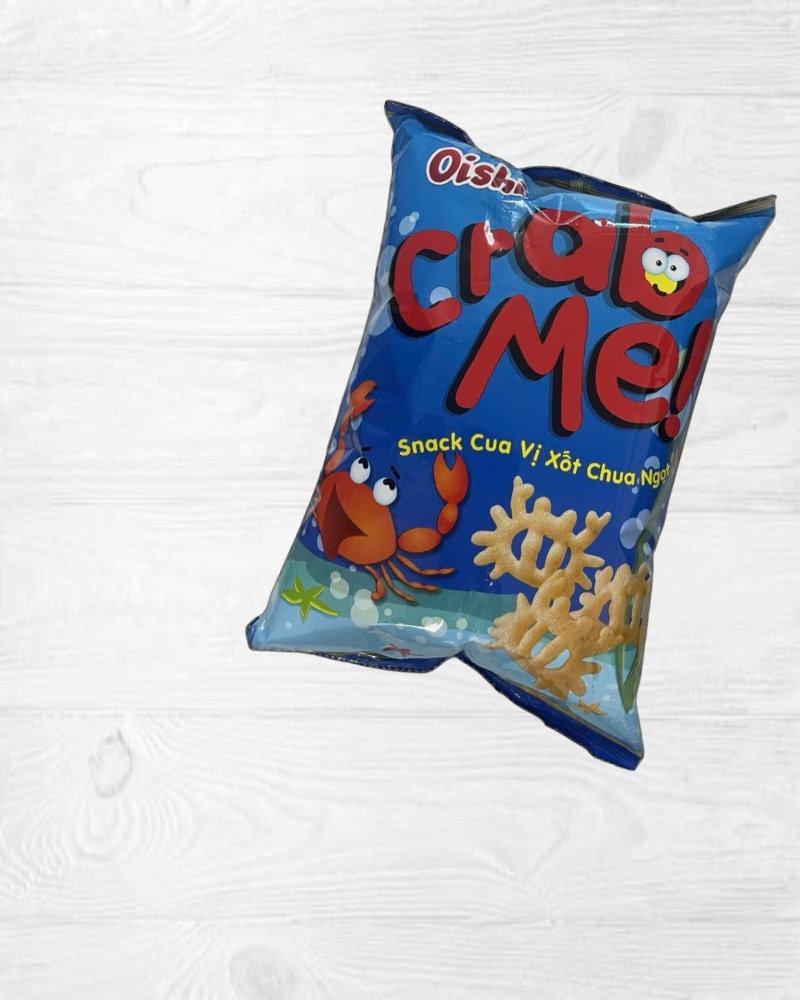Snack cua: (237, 93, 792, 767)
